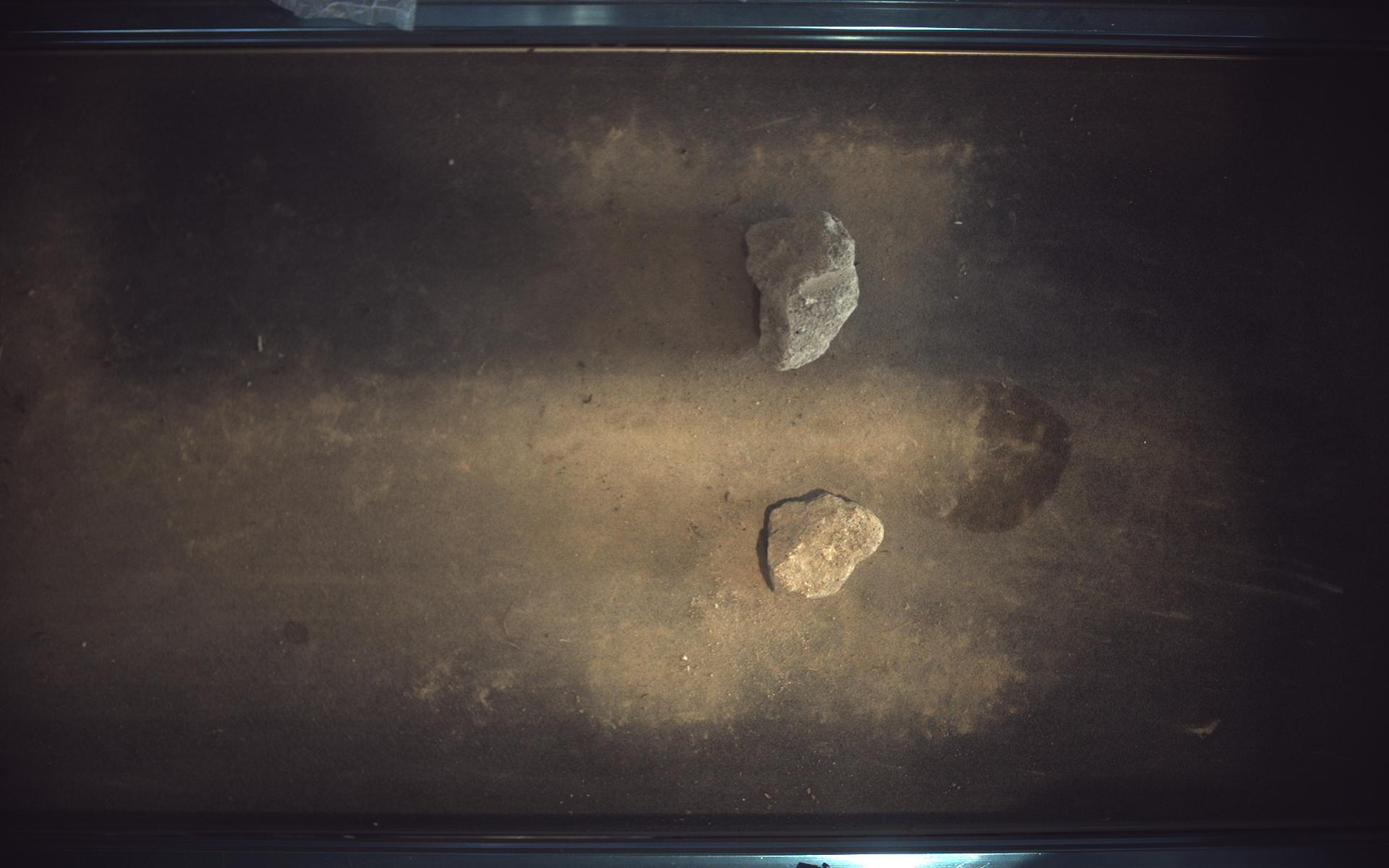stone: (747, 211, 861, 371), (768, 494, 885, 599)
